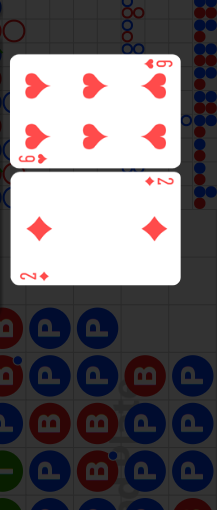2D: (143, 176, 175, 188)
6H: (142, 59, 174, 71)
